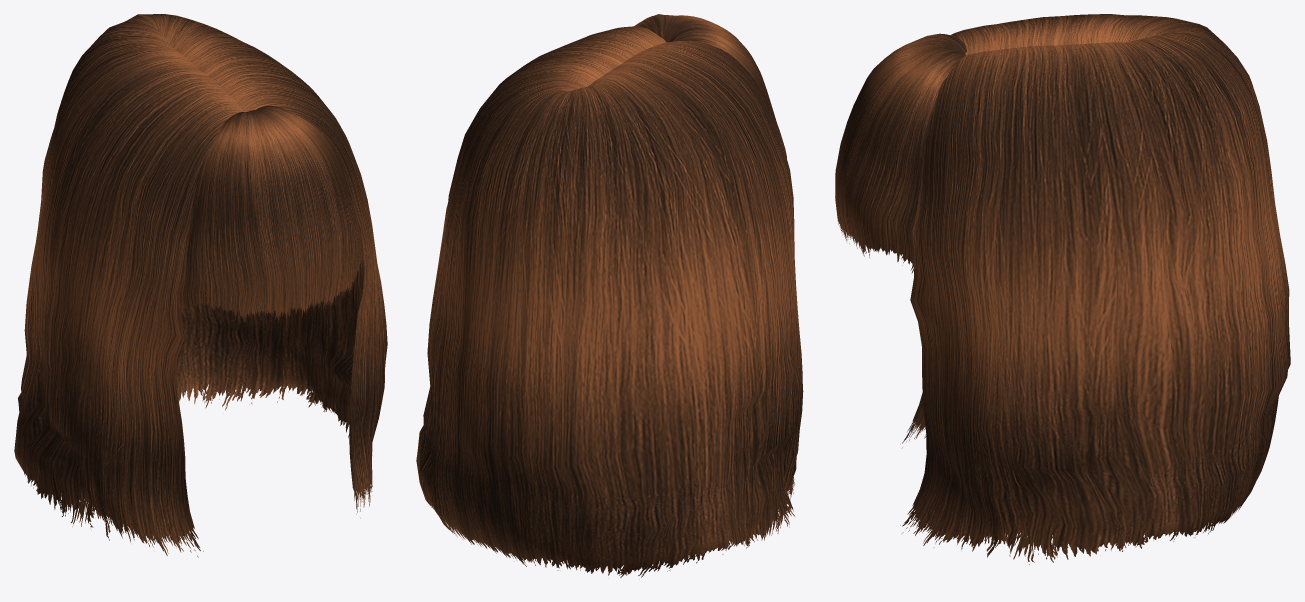
The model's file is mh_toigo_blunt_bob_with_bangs.glb.
3 renders of one model, left to right at view 1: azimuth 30°, elevation 25°; view 2: azimuth 150°, elevation 25°; view 3: azimuth 270°, elevation 25°, orthographic. The views are drawn at different scales.
Parts seen in each view (by area): view 1: mh_toigo_blunt_bob_with_bangs; view 2: mh_toigo_blunt_bob_with_bangs; view 3: mh_toigo_blunt_bob_with_bangs.
Boxes of the visible parts, x1,y1,x2,y2 form: mh_toigo_blunt_bob_with_bangs: [14, 14, 387, 557]; mh_toigo_blunt_bob_with_bangs: [416, 14, 803, 577]; mh_toigo_blunt_bob_with_bangs: [835, 14, 1290, 564].
Size of the model in its own units: 0.2161 by 0.3042 by 0.2568.
Materials: 1 (1 with a texture image).
